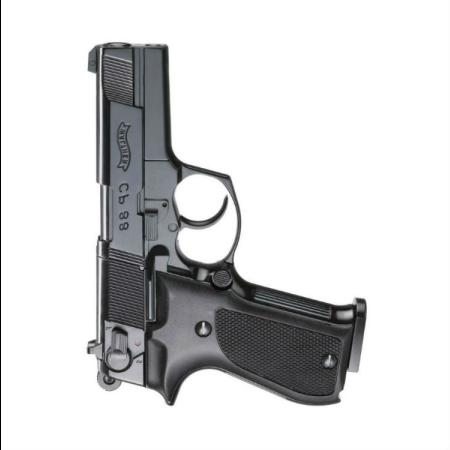Pistol: (80, 40, 366, 409)
